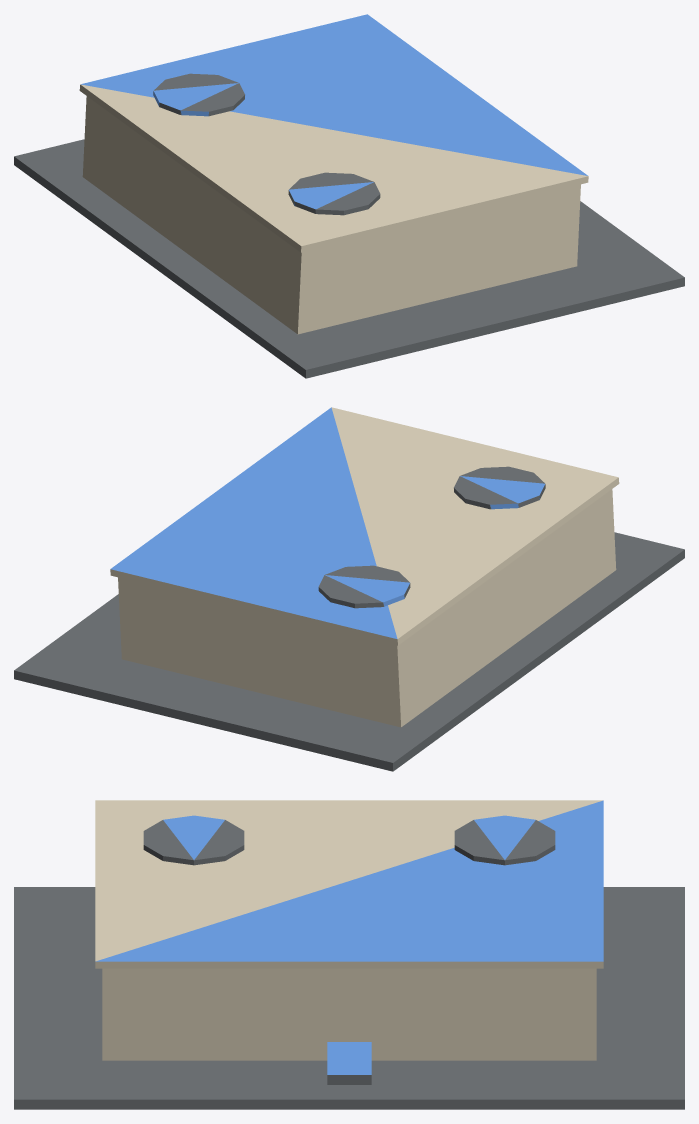
The model's file is meridian_refinery_heavily_damaged.glb.
The picture shows the model from 3 angles, top to bottom: view 1: azimuth 30°, elevation 25°; view 2: azimuth 150°, elevation 25°; view 3: azimuth 270°, elevation 25°; orthographic projection. The views are drawn at different scales.
Visible parts, largest first — view 1: hull; view 2: hull; view 3: hull, belt.
Part boxes in pixels (left/top/right/bottom): hull: left=14, top=14, right=684, bottom=378; hull: left=14, top=407, right=684, bottom=771; hull: left=14, top=800, right=684, bottom=1109; belt: left=327, top=1042, right=371, bottom=1084.
Size of the model in its own units: 11.4 by 2.98 by 15.2.
